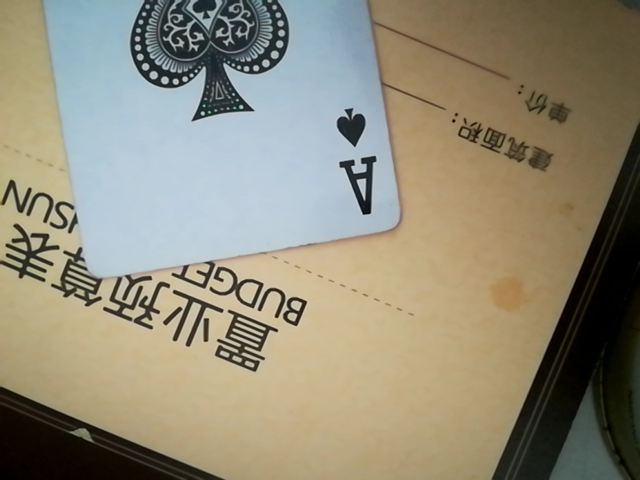ht a: (35, 5, 394, 274)
